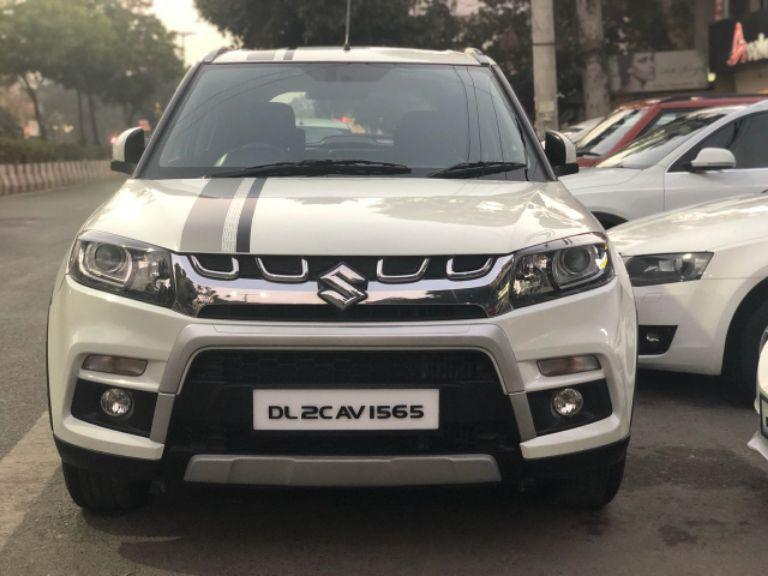numberplate: (252, 386, 441, 429)
